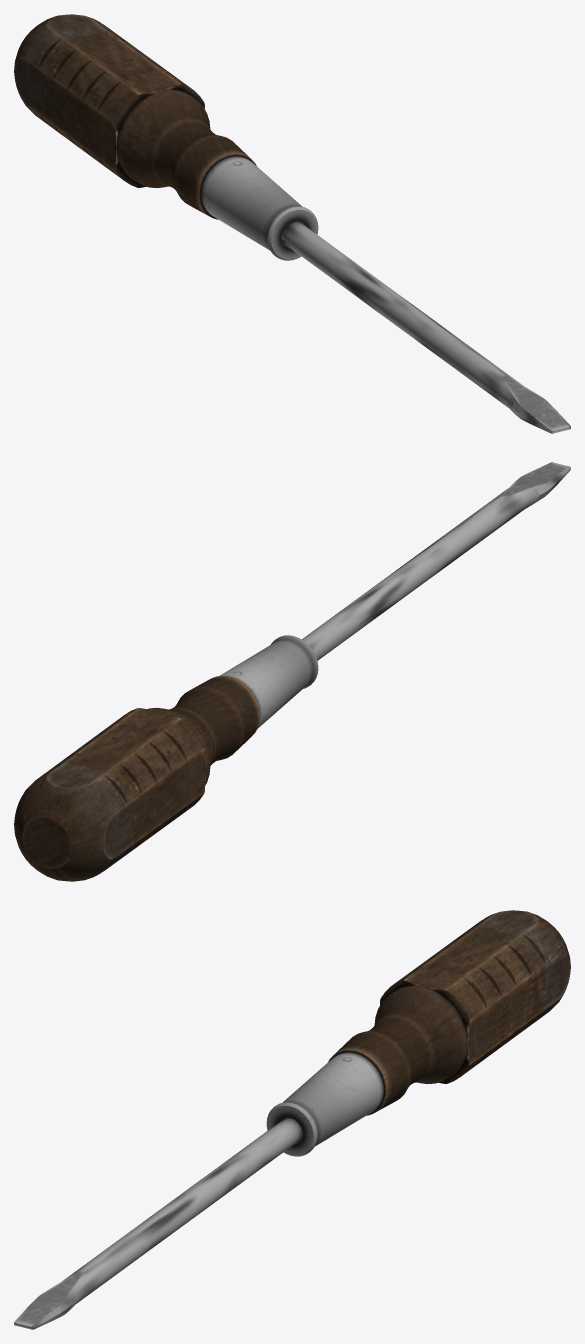
The model's file is screwdrivers_02__a.glb.
3 views of the same model, one above another, from view 1: azimuth 30°, elevation 25°; view 2: azimuth 150°, elevation 25°; view 3: azimuth 330°, elevation 25° (orthographic).
Visible parts, largest first — view 1: screwdrivers_02; view 2: screwdrivers_02; view 3: screwdrivers_02.
Part boxes in pixels (left/top/right/bottom): screwdrivers_02: left=14, top=14, right=570, bottom=433; screwdrivers_02: left=14, top=462, right=570, bottom=881; screwdrivers_02: left=14, top=910, right=570, bottom=1329.
Size of the model in its own units: 0.0271 by 0.0271 by 0.2699.
Materials: 1 (1 with a texture image).
